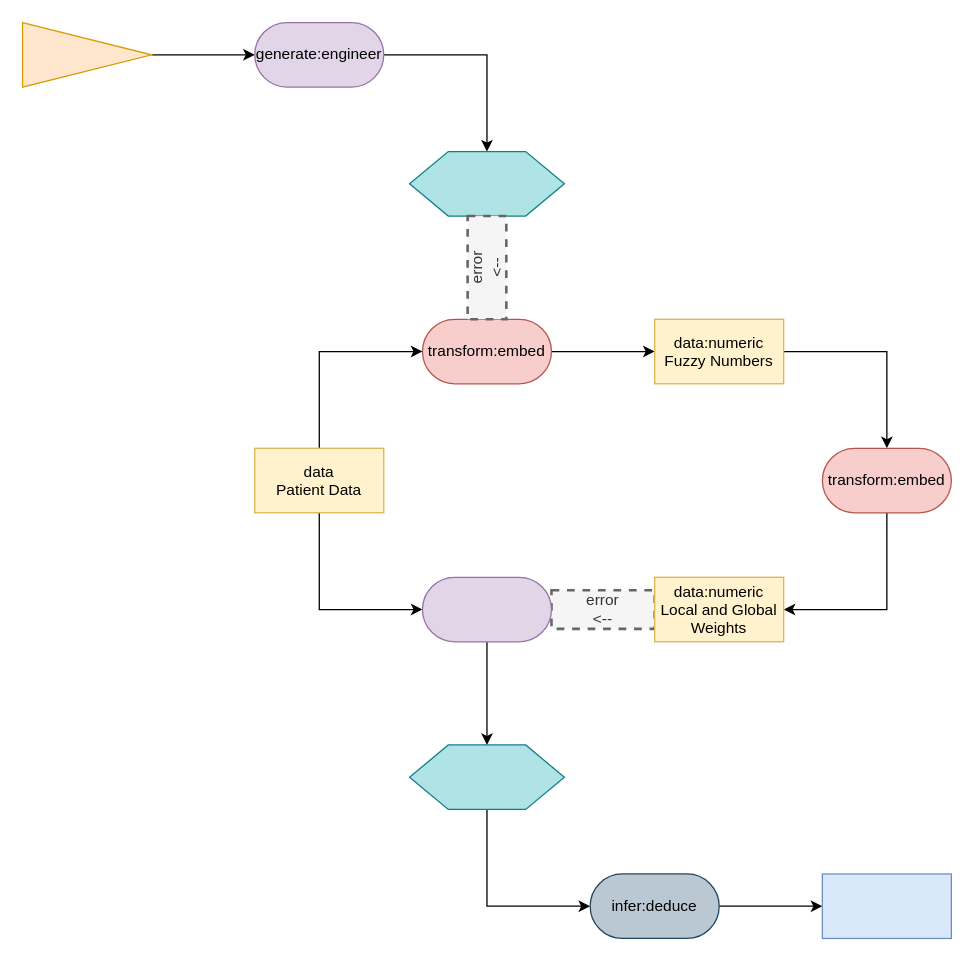
Image size: 974x961. Some labels were removed from this diagram. Here are the shapes that lost their labels. From the top down, the centre of each, then its label:
[86,54]: actor Experienced Cardiac Clinicians
[486,183]: model:semantic
[486,609]: generate:train
[486,776]: model:static ANN
[886,905]: symbol Heart Failure Risk
